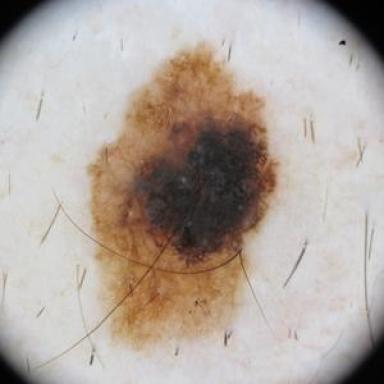Melanoma: (89, 44, 277, 345)
